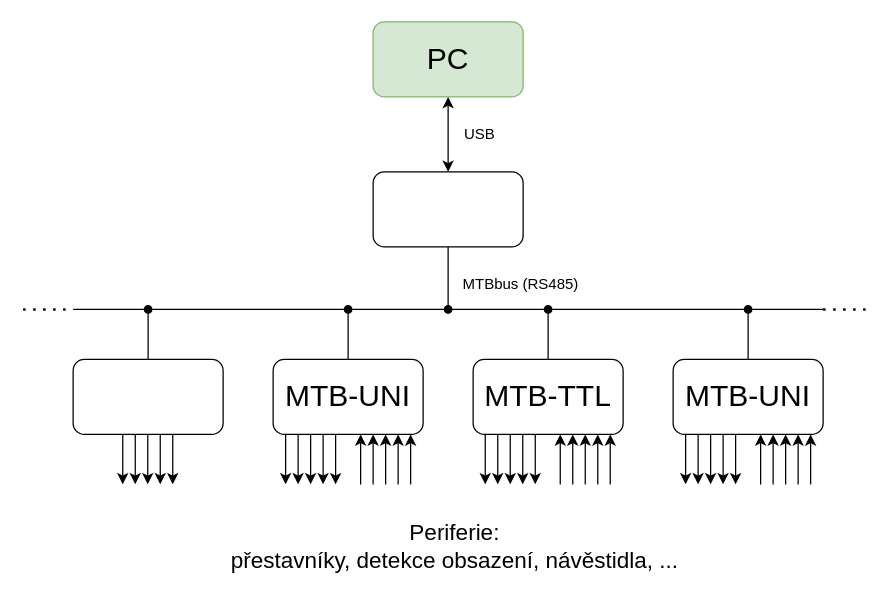
Image size: 896x595. Some labels were removed from this diagram. The shapes that lost their labels are listed below. From the top down, each one's centre as x and y in pixels, then its label:
At point 447,209: "MTB-USB".
At point 147,396: "MTB-REG".
